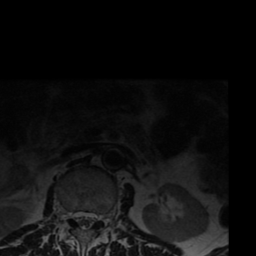CCS_normal: (81, 203, 89, 240)
LFS_normal: (97, 203, 104, 230)
LLS_normal: (89, 204, 97, 233)
RFS_normal: (63, 202, 72, 227)
RLS_normal: (72, 203, 81, 232)
